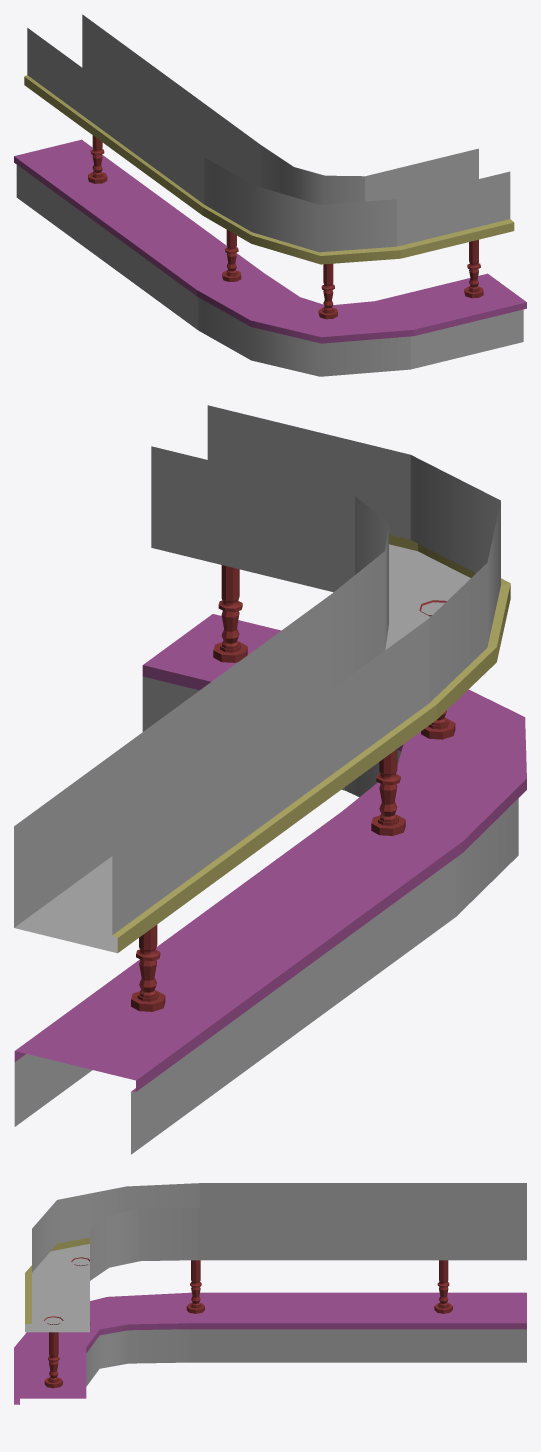
The model's file is BarSurf018.fbx.
3 views of the same model, one above another, from view 1: azimuth 30°, elevation 25°; view 2: azimuth 150°, elevation 25°; view 3: azimuth 270°, elevation 25° (orthographic). The views are drawn at different scales.
Visible parts, largest first — view 1: pCylinder6; view 2: pCylinder6; view 3: pCylinder6.
Part boxes in pixels (x1,y1,x2,y2): pCylinder6: (14, 14, 526, 376); pCylinder6: (14, 405, 526, 1154); pCylinder6: (14, 1183, 526, 1404).
Size of the model in its own units: 520 by 355 by 1065.
